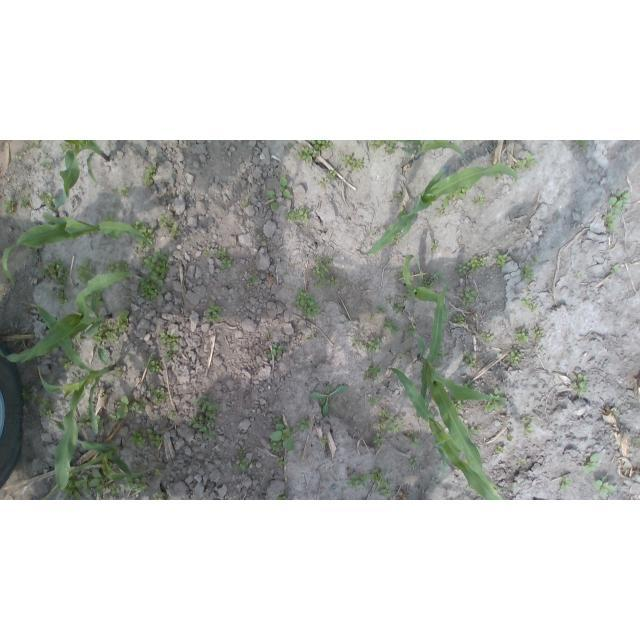Maize: (414, 284, 527, 491), (17, 298, 116, 500), (389, 368, 505, 501), (364, 164, 517, 255), (0, 271, 138, 365), (2, 214, 155, 287), (34, 420, 152, 501), (51, 141, 110, 212), (402, 254, 448, 327), (397, 140, 463, 160)
Weeds: (311, 381, 350, 417), (140, 249, 170, 287), (39, 258, 69, 291), (269, 417, 297, 452), (128, 220, 154, 253), (105, 310, 129, 344), (295, 287, 321, 317), (188, 416, 219, 441), (60, 473, 88, 500), (138, 276, 167, 301), (374, 411, 405, 434), (116, 396, 145, 420), (608, 189, 630, 220), (194, 394, 220, 420), (371, 468, 394, 497), (159, 329, 180, 360), (572, 373, 593, 400), (32, 393, 54, 418), (593, 477, 616, 500), (485, 388, 506, 412), (284, 206, 312, 224), (511, 154, 537, 173), (89, 468, 106, 497), (86, 289, 104, 316), (159, 213, 179, 237), (213, 247, 234, 269), (343, 152, 366, 172), (75, 260, 93, 285), (418, 271, 441, 289), (581, 453, 599, 476), (602, 211, 619, 234), (205, 301, 222, 324), (312, 257, 332, 276), (346, 471, 368, 488), (267, 343, 286, 362), (466, 255, 486, 273), (128, 428, 146, 448), (520, 261, 535, 284), (143, 165, 158, 188), (311, 141, 334, 156), (128, 476, 146, 495), (461, 287, 478, 307), (105, 259, 129, 273), (463, 351, 481, 369), (148, 427, 165, 446), (452, 184, 472, 200), (279, 176, 292, 200), (38, 191, 56, 208), (150, 387, 167, 405), (363, 337, 382, 353), (295, 147, 314, 163), (266, 188, 279, 211), (146, 356, 163, 373), (383, 319, 401, 335), (314, 275, 336, 288), (520, 414, 534, 434), (520, 297, 538, 312), (506, 348, 521, 365), (514, 328, 529, 344), (452, 397, 469, 411), (364, 365, 381, 379), (106, 482, 121, 497), (372, 432, 386, 448), (56, 291, 73, 304), (93, 327, 104, 345), (59, 356, 73, 370), (296, 419, 310, 433), (78, 412, 91, 427), (235, 459, 250, 472), (495, 252, 507, 268), (367, 140, 385, 150), (4, 197, 14, 214), (404, 324, 417, 337), (385, 141, 398, 154), (443, 192, 453, 208), (404, 288, 417, 300), (560, 478, 572, 491), (454, 312, 466, 325), (533, 326, 544, 340), (481, 333, 495, 344), (460, 379, 475, 389), (409, 458, 420, 471), (96, 415, 105, 430), (611, 262, 622, 274), (457, 264, 467, 277), (468, 426, 481, 436), (473, 195, 486, 205), (328, 169, 337, 183), (19, 196, 29, 208), (411, 436, 421, 448), (459, 414, 468, 427), (152, 491, 165, 500), (276, 456, 285, 469), (398, 206, 408, 217), (391, 233, 401, 244), (47, 376, 57, 387), (392, 304, 404, 313), (109, 232, 121, 241), (105, 412, 117, 421), (119, 187, 129, 197), (26, 140, 36, 150), (40, 161, 51, 170), (22, 389, 31, 400), (276, 492, 287, 501), (495, 446, 505, 455), (73, 331, 82, 341), (436, 351, 445, 361), (113, 367, 121, 378), (205, 247, 212, 259), (105, 214, 114, 223), (432, 476, 441, 485), (368, 396, 377, 405), (352, 337, 360, 347), (397, 267, 404, 278), (394, 191, 402, 200), (377, 307, 387, 314), (319, 177, 326, 187), (577, 140, 588, 146), (631, 439, 640, 446), (494, 173, 503, 180), (156, 469, 165, 476), (247, 275, 253, 285), (62, 141, 69, 149), (243, 200, 250, 208), (436, 210, 444, 217), (518, 458, 526, 465), (371, 230, 379, 237), (321, 436, 328, 444), (575, 273, 582, 280), (387, 296, 393, 304), (507, 435, 514, 441), (431, 244, 438, 250), (534, 257, 540, 264), (72, 345, 77, 352), (259, 237, 266, 242), (613, 412, 618, 417), (384, 224, 389, 229), (100, 389, 104, 395), (309, 336, 313, 341)
